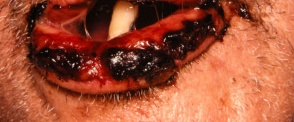SJS-TEN: (14, 0, 271, 94)
